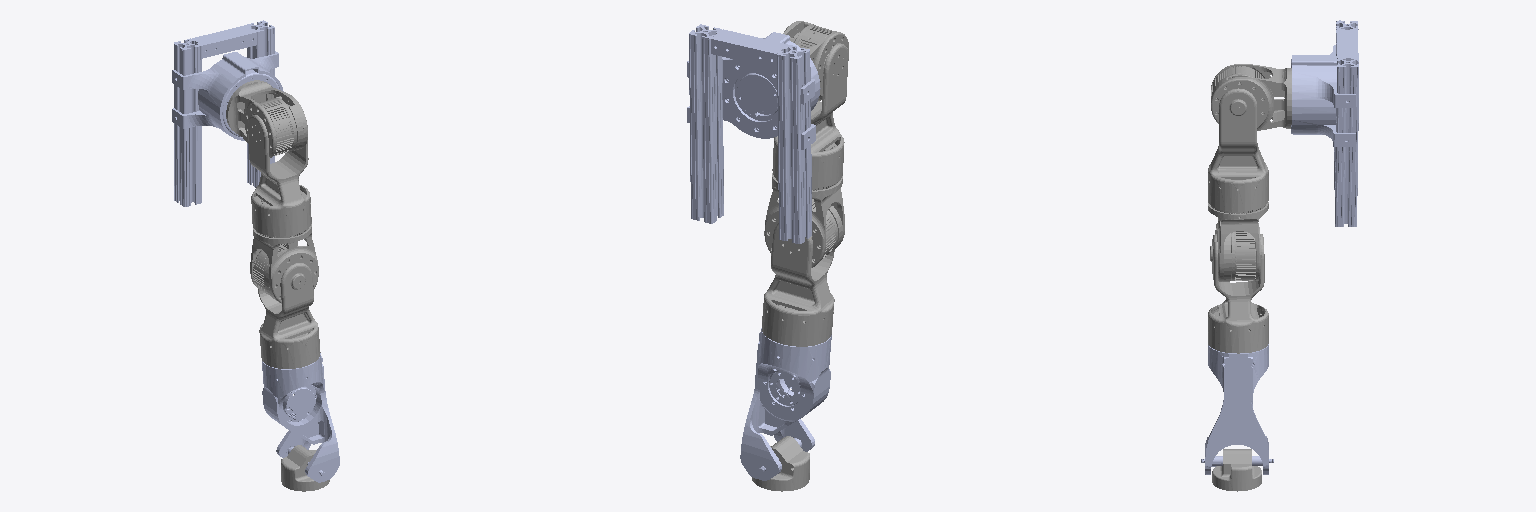
URDF robot description (grasp01_description):
<?xml version="1.0" encoding="utf-8"?>
<robot name="grasp01_description">
  <!-- Define the world link -->
  <link name="world" />

  <!-- Attach the robot's base link to the world with a fixed joint only as representation for rviz temporaly-->
  <joint name="world_to_base" type="fixed">
    <origin xyz="0 0 2.0" rpy="0 0 0" />
    <parent link="world" />
    <child link="base_link" />
  </joint>

  <link name="base_link">
    <inertial>
      <origin xyz="0.037143 0.012702 0.0051389" rpy="0 0 0" />
      <mass value="1.3236" />
      <inertia ixx="0.0047902" ixy="5.4349E-05" ixz="-4.4263E-05" iyy="0.0058859" iyz="8.8278E-06" izz="0.0017315" />
    </inertial>
    <visual>
      <origin xyz="-0.38605 0.058 0.11" rpy="0 0 0" />
      <geometry>
        <mesh filename="package://grasp01_description/meshes/base_link.STL" />
      </geometry>
      <material name="">
        <color rgba="0.79216 0.81961 0.93333 1" />
      </material>
    </visual>
    <collision>
      <origin xyz="0 0 0" rpy="0 0 0" />
      <geometry>
        <mesh filename="package://grasp01_description/meshes/base_link.STL" />
      </geometry>
    </collision>
  </link>

  <link name="link_1">
    <inertial>
      <origin xyz="0.0063049 -0.05731 -0.00091294" rpy="0 0 0" />
      <mass value="1.215" />
      <inertia ixx="0.0008063" ixy="4.7844E-05" ixz="2.1621E-06" iyy="0.00048473" iyz="3.1242E-06" izz="0.00076434" />
    </inertial>
    <visual>
      <origin xyz="0 0 0" rpy="0 0 0" />
      <geometry>
        <mesh filename="package://grasp01_description/meshes/link_1.STL" />
      </geometry>
      <material name="">
        <color rgba="0.69804 0.69804 0.69804 1" />
      </material>
    </visual>
    <collision>
      <origin xyz="0 0 0" rpy="0 0 0" />
      <geometry>
        <mesh filename="package://grasp01_description/meshes/link_1.STL" />
      </geometry>
    </collision>
  </link>

  <joint name="joint_1" type="revolute">
    <origin xyz="0.0 0.0 0.0" rpy="0.0 0.0 0.0"  />
    <parent link="base_link" />
    <child link="link_1" />
    <axis xyz="0 1 0" />
    <limit lower="-1.57" upper="1.57" effort="100.0" velocity="1.0" />
    <dynamics damping="0.5" friction="0.1" />
  </joint>

  <link name="link_2">
    <inertial>
      <origin xyz="0.0051023 0.0053126 -0.09964" rpy="0 0 0" />
      <mass value="1.311" />
      <inertia
        ixx="0.0012762"
        ixy="4.2123E-06"
        ixz="3.5118E-05"
        iyy="0.0013306"
        iyz="3.6585E-05"
        izz="0.00059637" />
    </inertial>
    <visual>
      <origin xyz="0 0 0" rpy="0 0 0" />
      <geometry>
        <mesh filename="package://grasp01_description/meshes/link_2.STL" />
      </geometry>
      <material name="">
        <color rgba="0.69804 0.69804 0.69804 1" />
      </material>
    </visual>
    <collision>
      <origin xyz="0 0 0" rpy="0 0 0" />
      <geometry>
        <mesh filename="package://grasp01_description/meshes/link_2.STL" />
      </geometry>
    </collision>
  </link>

  <joint name="joint_2" type="revolute">
    <origin xyz="0 -0.096506 0" rpy="-0.050536 -6.4814E-05 -0.0025645" />
    <parent link="link_1" />
    <child link="link_2" />
    <axis xyz="-0.99871 0 0.050703" />
    <limit lower="-1.57" upper="1.57" effort="100.0" velocity="1.0" />
    <dynamics damping="0.5" friction="0.1" />
  </joint>

  <link
    name="link_3">
    <inertial>
      <origin
        xyz="0.0030015 -0.0031822 -0.06206"
        rpy="0 0 0" />
      <mass
        value="1.215" />
      <inertia
        ixx="0.00074643"
        ixy="4.9421E-06"
        ixz="7.8874E-06"
        iyy="0.00081023"
        iyz="-3.2312E-05"
        izz="0.00049871" />
    </inertial>
    <visual>
      <origin xyz="0 0 0" rpy="0 0 0" />
      <geometry>
        <mesh filename="package://grasp01_description/meshes/link_3.STL" />
      </geometry>
      <material name="">
        <color rgba="0.69804 0.69804 0.69804 1" />
      </material>
    </visual>
    <collision>
      <origin xyz="0 0 0" rpy="0 0 0" />
      <geometry>
        <mesh filename="package://grasp01_description/meshes/link_3.STL" />
      </geometry>
    </collision>
  </link>

  <joint name="joint_3" type="revolute">
    <origin xyz="0.0090236 0.0092998 -0.1876" rpy="-0.0056952 -0.0049964 0.10683" />
    <parent link="link_2" />
    <child link="link_3" />
    <axis xyz="0.050641 0.049454 0.99749" />
    <limit lower="-1.57" upper="1.57" effort="100.0" velocity="1.0" />
    <dynamics damping="0.5" friction="0.1" />
  </joint>

  <link name="link_4">
    <inertial>
      <origin xyz="0.10729 -0.0056415 0.017123" rpy="0 0 0" />
      <mass value="1.33" />
     <inertia
        ixx="0.00084301"
        ixy="1.4953E-05"
        ixz="-4.9692E-05"
        iyy="0.0011228"
        iyz="-1.0559E-05"
        izz="0.0011576" />
    </inertial>
    <visual>
      <origin xyz="0 0 0" rpy="0 0 0" />
      <geometry>
        <mesh filename="package://grasp01_description/meshes/link_4.STL" />
      </geometry>
      <material name="">
        <color rgba="0.69804 0.69804 0.69804 1" />
      </material>
    </visual>
    <collision>
      <origin xyz="0 0 0" rpy="0 0 0" />
      <geometry>
        <mesh filename="package://grasp01_description/meshes/link_4.STL" />
      </geometry>
    </collision>
  </link>

  <joint name="joint_4" type="revolute">
    <origin xyz="0.00506 0.0049414 -0.099668" rpy="2.2009 1.442 2.2049" />
    <parent link="link_3" />
    <child link="link_4" />
    <axis xyz="0.048116 0.99749 0.051897" />
    <limit lower="-1.57" upper="1.57" effort="100.0" velocity="1.0" />
    <dynamics damping="0.5" friction="0.1" />
  </joint>

  <link name="link_5">
    <inertial>
      <origin xyz="0.10997 -0.010245 0.011433" rpy="0 0 0" />
      <mass value="1.088" />
      <inertia ixx="0.00094775"
        ixy="0.00021054"
        ixz="6.5983E-05"
        iyy="0.0022962"
        iyz="-3.2388E-05"
        izz="0.0022998" />
    </inertial>
    <visual>
      <origin xyz="0 0 0" rpy="0 0 0" />
      <geometry>
        <mesh filename="package://grasp01_description/meshes/link_5.STL" />
      </geometry>
      <material name="">
        <color rgba="0.79216 0.81961 0.93333 1" />
      </material>
    </visual>
    <collision>
      <origin xyz="0 0 0" rpy="0 0 0" />
      <geometry>
        <mesh filename="package://grasp01_description/meshes/link_5.STL" />
      </geometry>
    </collision>
  </link>

  <joint name="joint_5" type="revolute">
    <origin xyz="0.13691 -0.0072371 0.021798" rpy="-2.4329 -0.24294 -0.20316" />
    <parent link="link_4" />
    <child link="link_5" />
    <axis xyz="-0.98605 -0.055724 0.15683" />
    <limit lower="-1.57" upper="1.57" effort="100.0" velocity="1.0" />
    <dynamics damping="0.5" friction="0.1" />
  </joint>

  <link name="ee_link">
    <inertial>
      <origin xyz="0.018277 0.00059656 0.0019381" rpy="0 0 0" />
      <mass value="0.27187" />
      <inertia
        ixx="0.00021399"
        ixy="-6.4561E-07"
        ixz="7.4222E-06"
        iyy="0.00017126"
        iyz="-1.8245E-05"
        izz="0.00016401" />
    </inertial>
    <visual>
      <origin xyz="0 0 0" rpy="0 0 0" />
      <geometry>
        <mesh filename="package://grasp01_description/meshes/ee_link.STL" />
      </geometry>
      <material name="">
        <color rgba="0.69804 0.69804 0.69804 1"  />
      </material>
    </visual>
    <collision>
      <origin xyz="0 0 0" rpy="0 0 0" />
      <geometry>
        <mesh filename="package://grasp01_description/meshes/ee_link.STL" />
      </geometry>
    </collision>
  </link>

  <joint name="ee_joint" type="revolute">
    <origin xyz="0.23586 -0.018782 0.029068" rpy="-0.010928 -0.060804 0.039747" />
    <parent link="link_5" />
    <child link="ee_link" />
    <axis xyz="0.13258 0.83263 -0.53772" />
    <limit lower="-1.0472" upper="1.0472" effort="100.0" velocity="1.0" />
    <dynamics damping="0.5" friction="0.1" />
  </joint>
</robot>

--- Render facts (derived) ---
Views: 3 orthographic renders of the robot side by side, from view 1: azimuth 30°, elevation 25°; view 2: azimuth 150°, elevation 25°; view 3: azimuth 270°, elevation 25°.
Robot: grasp01_description — 8 links, 7 joints (6 revolute, 1 fixed); root link world; default pose: all joints at 0.
Visible links, largest first — view 1: base_link, link_5, link_2, link_4, link_1, link_3, ee_link; view 2: base_link, link_5, link_4, link_2, link_3, ee_link, link_1; view 3: base_link, link_2, link_5, link_4, link_1, link_3, ee_link.
Boxes of the visible links, left/top/right/bottom form: base_link: left=172, top=20, right=283, bottom=206; link_5: left=262, top=353, right=339, bottom=482; link_2: left=248, top=115, right=311, bottom=237; link_4: left=258, top=263, right=320, bottom=368; link_1: left=226, top=80, right=307, bottom=157; link_3: left=250, top=224, right=318, bottom=303; ee_link: left=281, top=445, right=329, bottom=491; base_link: left=687, top=24, right=820, bottom=243; link_5: left=740, top=328, right=831, bottom=480; link_4: left=762, top=225, right=834, bottom=346; link_2: left=772, top=43, right=847, bottom=190; link_3: left=764, top=173, right=844, bottom=267; ee_link: left=752, top=436, right=809, bottom=491; link_1: left=783, top=21, right=848, bottom=100; base_link: left=1291, top=20, right=1358, bottom=226; link_2: left=1208, top=88, right=1268, bottom=213; link_5: left=1201, top=344, right=1273, bottom=474; link_4: left=1208, top=234, right=1268, bottom=353; link_1: left=1211, top=64, right=1291, bottom=130; link_3: left=1208, top=202, right=1268, bottom=281; ee_link: left=1212, top=449, right=1261, bottom=491.
Bounding box of the posed robot: 0.1998 × 0.2737 × 0.808 m (x, y, z).
7 mesh visuals loaded from 7 distinct referenced files (7 binary STL).